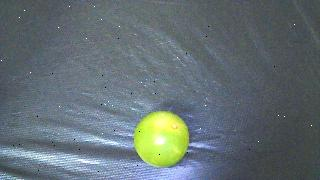LOCAL: (134, 111, 189, 167)
